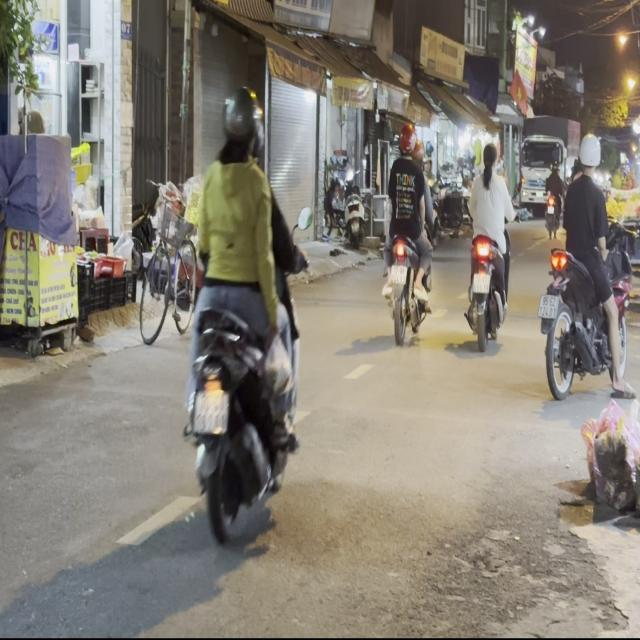helmet: (217, 87, 257, 160), (578, 132, 600, 174), (396, 121, 415, 156)
licenseplate: (177, 85, 305, 551), (574, 81, 640, 536), (537, 129, 632, 398), (379, 119, 435, 343), (462, 133, 513, 348)
motorcyclist: (480, 140, 497, 172)
nohelmet: (192, 390, 228, 431), (538, 294, 560, 317), (472, 272, 489, 292), (389, 265, 406, 284)
